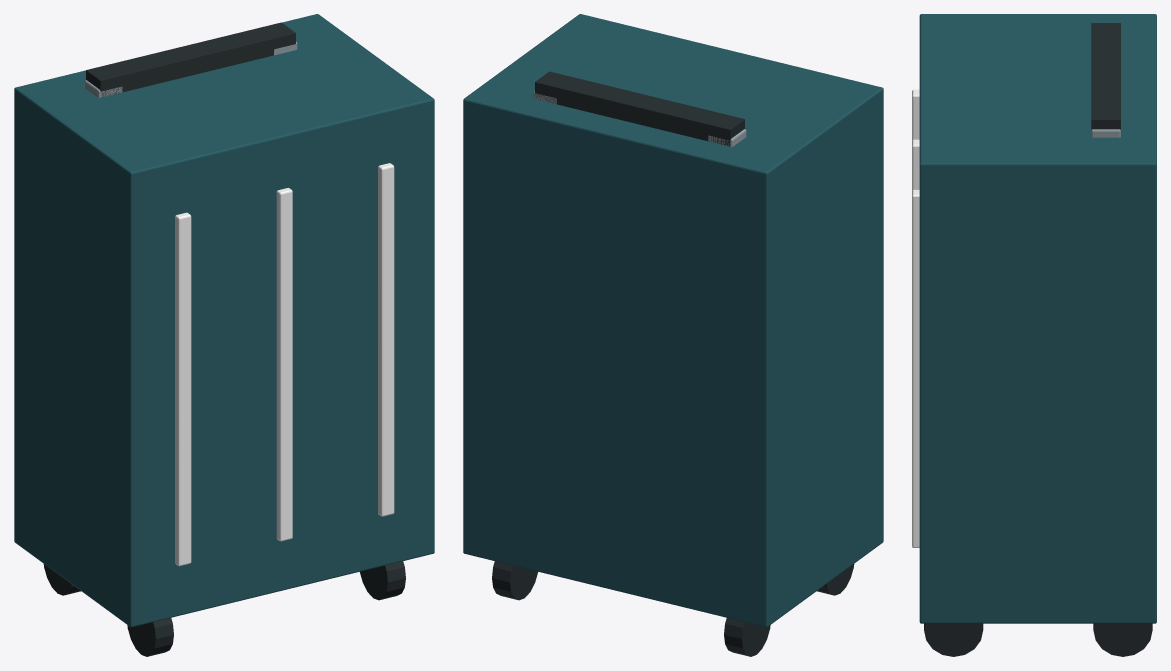
Rendered from luggage-suitcase.glb.
3 renders of one model, left to right at view 1: azimuth 30°, elevation 25°; view 2: azimuth 150°, elevation 25°; view 3: azimuth 270°, elevation 25°, orthographic.
Parts seen in each view (by area): view 1: Shell, Grip, Shell_Rib.001, Shell_Rib, Shell_Rib.002, Caster.001, Caster.003; view 2: Shell, Grip, Caster.002, Caster; view 3: Shell, Grip, Shell_Rib.002, Caster, Caster.003, Shell_Rib, Shell_Rib.001.
Boxes of the visible parts, bbox=[...] form: Shell: bbox=[14, 14, 434, 627]; Grip: bbox=[86, 22, 295, 97]; Shell_Rib.001: bbox=[276, 188, 292, 541]; Shell_Rib: bbox=[175, 212, 191, 566]; Shell_Rib.002: bbox=[378, 163, 394, 516]; Caster.001: bbox=[127, 618, 173, 656]; Caster.003: bbox=[360, 561, 405, 600]; Shell: bbox=[463, 14, 883, 627]; Grip: bbox=[535, 71, 744, 146]; Caster.002: bbox=[724, 618, 770, 656]; Caster: bbox=[492, 561, 537, 600]; Shell: bbox=[919, 14, 1156, 623]; Grip: bbox=[1091, 23, 1120, 129]; Shell_Rib.002: bbox=[912, 189, 919, 547]; Caster: bbox=[1093, 623, 1152, 656]; Caster.003: bbox=[924, 623, 983, 656]; Shell_Rib: bbox=[912, 89, 919, 140]; Shell_Rib.001: bbox=[912, 139, 919, 190].
Size of the model in its own units: 0.42 by 0.6825 by 0.289.
